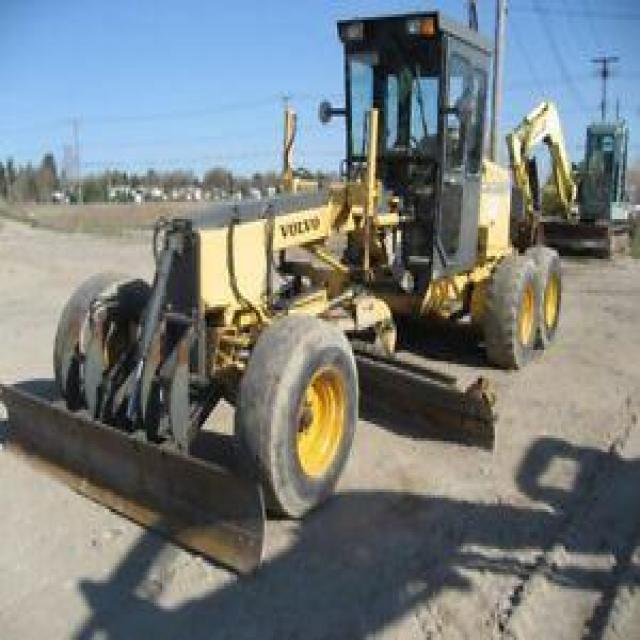Grader: (53, 3, 612, 518)
